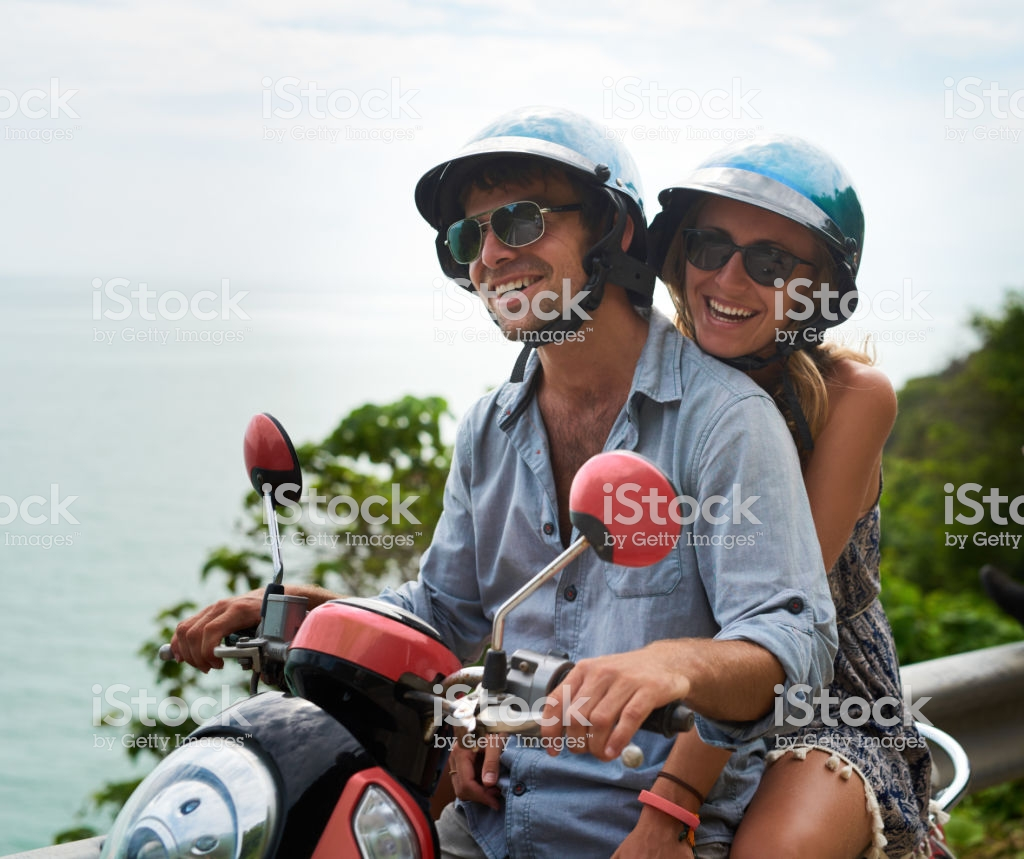helmet: (658, 121, 877, 297), (433, 108, 633, 226)
